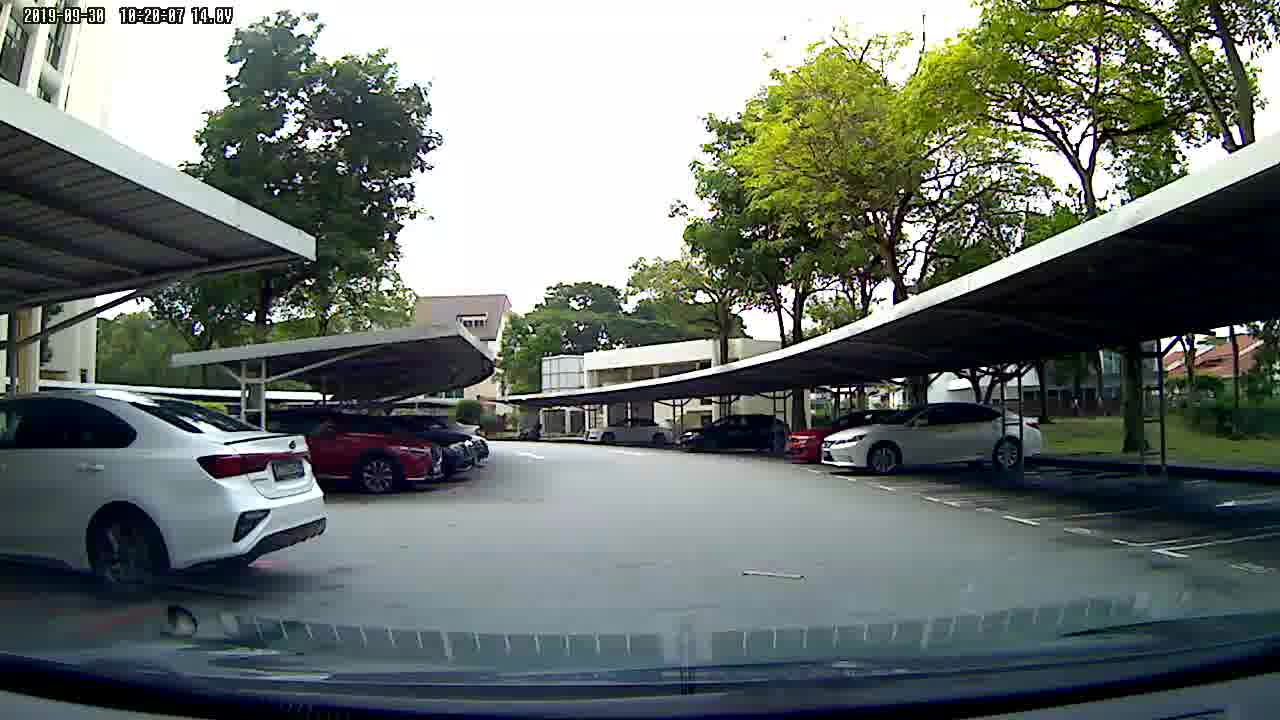car: (1, 382, 333, 601), (314, 385, 495, 505), (785, 396, 1052, 474), (681, 411, 794, 456), (583, 413, 678, 448)
